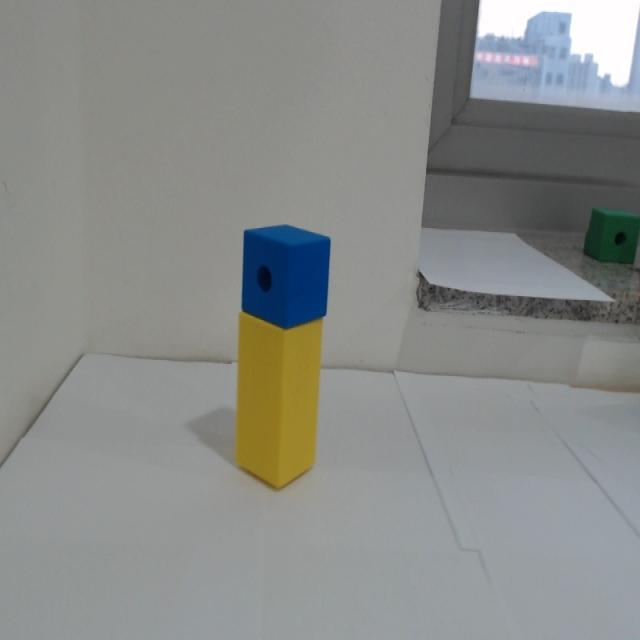cube: (237, 219, 334, 334)
